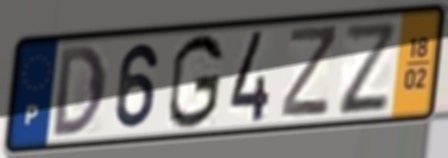4: (227, 28, 272, 126)
6: (113, 40, 163, 132)
D: (51, 42, 109, 141)
G: (165, 31, 227, 132)
Z: (278, 22, 341, 120), (336, 19, 396, 118)
